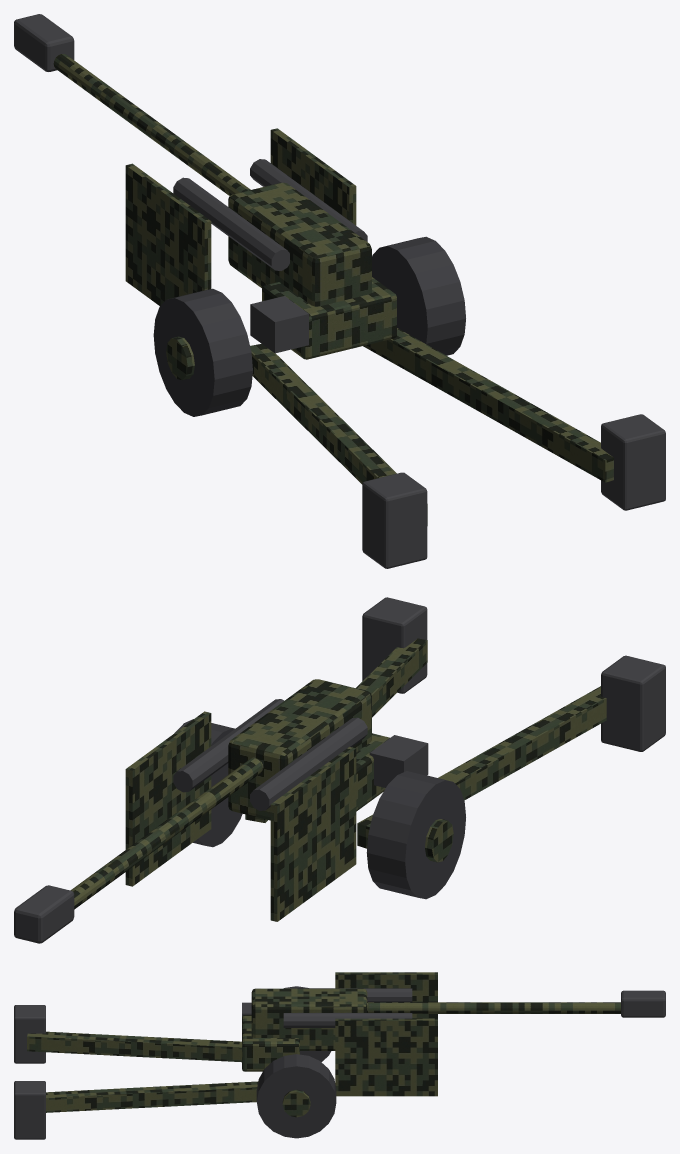
File: type_m777.glb
3 views of the same model, one above another, from view 1: azimuth 30°, elevation 25°; view 2: azimuth 150°, elevation 25°; view 3: azimuth 270°, elevation 25° (orthographic). The views are drawn at different scales.
Parts seen in each view (by area): view 1: m777_barrel, m777_muzzle, m777_wheel_-1; view 2: m777_barrel, m777_muzzle, m777_wheel_-1; view 3: m777_barrel, m777_muzzle, m777_wheel_-1.
Boxes of the visible parts, x1=… form: m777_barrel: x1=53, y1=54, x2=613, y2=525; m777_muzzle: x1=14, y1=14, x2=665, y2=568; m777_wheel_-1: x1=153, y1=236, x2=465, y2=416; m777_barrel: x1=70, y1=638, x2=606, y2=921; m777_muzzle: x1=14, y1=597, x2=665, y2=943; m777_wheel_-1: x1=175, y1=719, x2=465, y2=899; m777_barrel: x1=27, y1=972, x2=620, y2=1117; m777_muzzle: x1=14, y1=988, x2=665, y2=1139; m777_wheel_-1: x1=256, y1=986, x2=336, y2=1138.
Bounding box in the file's own units: 3.3 × 1.79 × 10.15.
3 materials, 1 textured.
